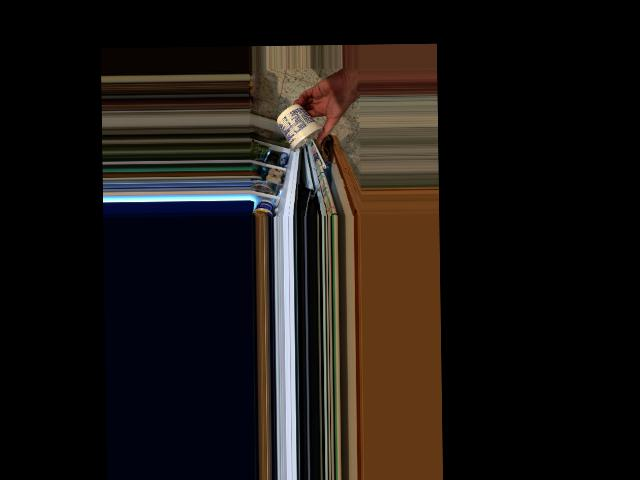cotage: (275, 102, 322, 153)
